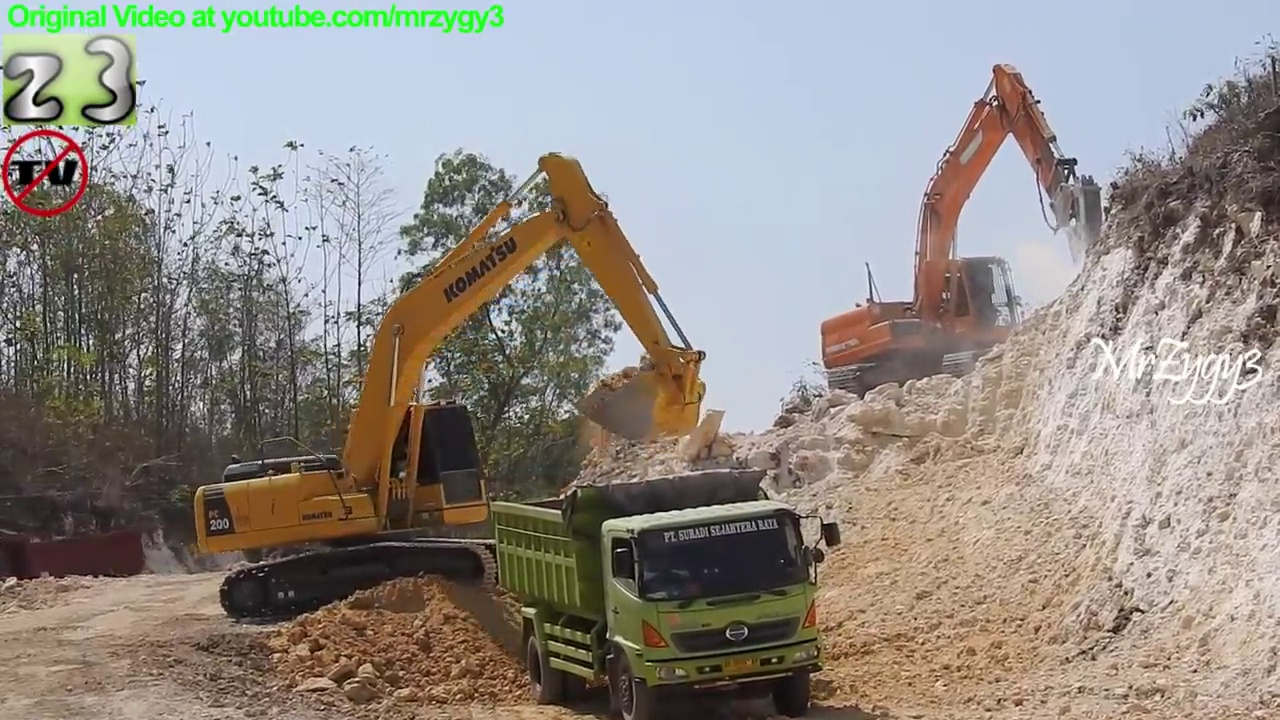excavator: (186, 148, 717, 631), (817, 59, 1109, 410)
truck: (489, 461, 849, 720)
